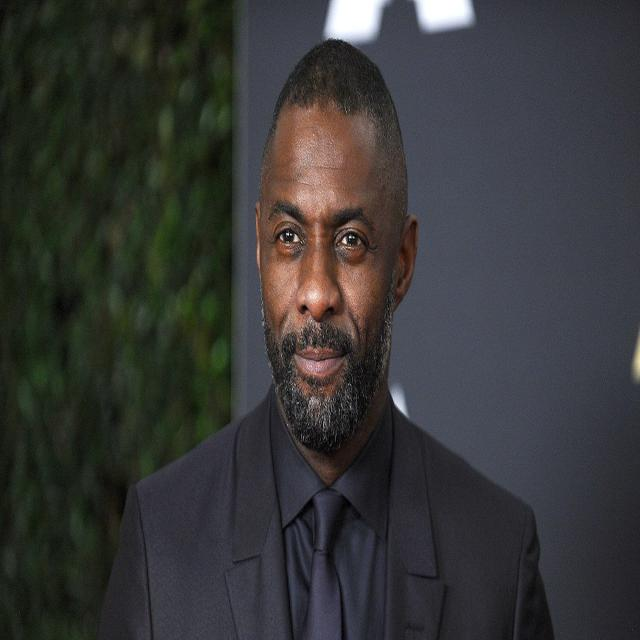mobile_phonerotation: (98, 34, 556, 636)
